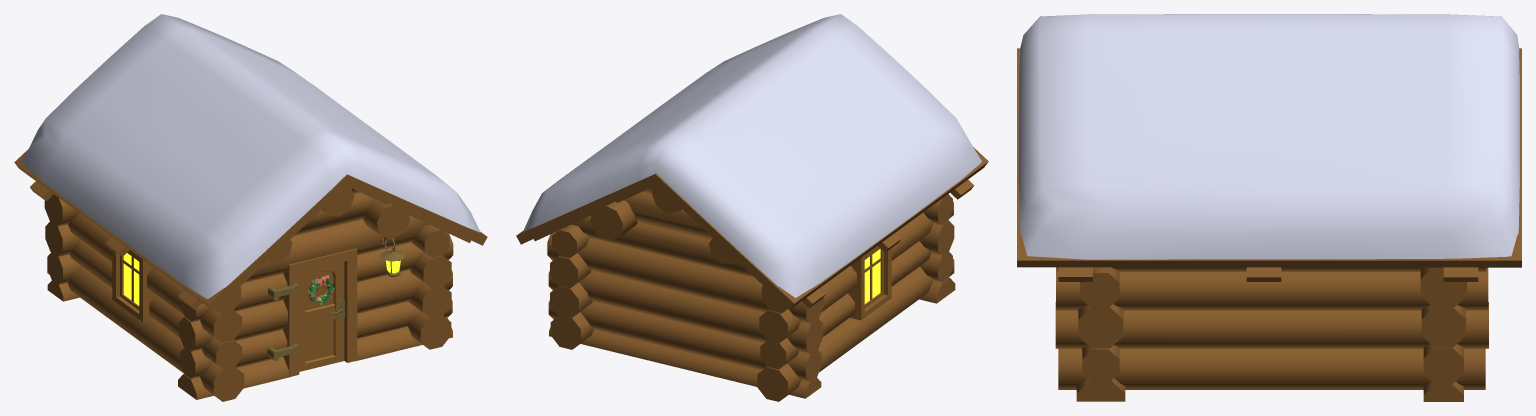
Rendered from house.fbx.
The picture shows the model from 3 angles, left to right: view 1: azimuth 30°, elevation 25°; view 2: azimuth 150°, elevation 25°; view 3: azimuth 270°, elevation 25°; orthographic projection. The views are drawn at different scales.
Visible parts, largest first — view 1: snow_roof, House, Door, Lamp, garland; view 2: snow_roof, House; view 3: snow_roof, House.
Part boxes in pixels (x1,y1,x2,y2): snow_roof: (21, 14, 480, 299); House: (14, 149, 487, 401); Door: (299, 262, 344, 371); Lamp: (380, 237, 405, 277); garland: (307, 275, 334, 304); snow_roof: (523, 14, 981, 297); House: (516, 147, 988, 401); snow_roof: (1018, 14, 1519, 259); House: (1017, 48, 1521, 401).
Size of the model in its own units: 137 by 110 by 164.
